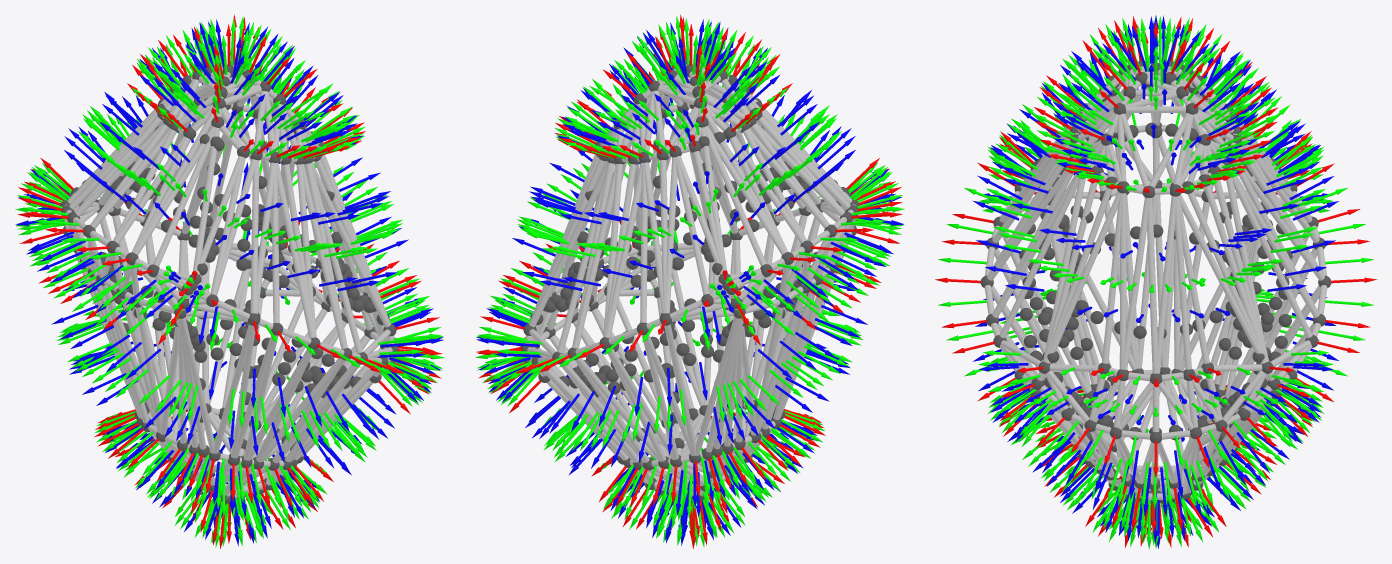
File: flowrep_ellipsetorus.gltf
The picture shows the model from 3 angles, left to right: view 1: azimuth 30°, elevation 25°; view 2: azimuth 150°, elevation 25°; view 3: azimuth 270°, elevation 25°; orthographic projection.
Size of the model in its own units: 0.6436 by 0.8655 by 0.6677.
